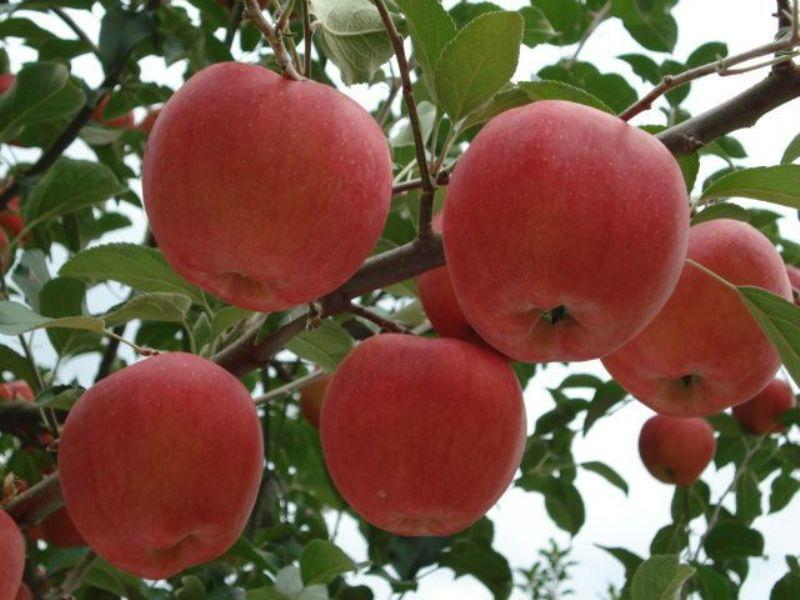apple: (437, 100, 692, 367), (142, 60, 395, 310), (52, 350, 263, 579), (316, 333, 525, 534), (601, 218, 789, 416), (635, 412, 716, 487), (729, 372, 796, 437)
